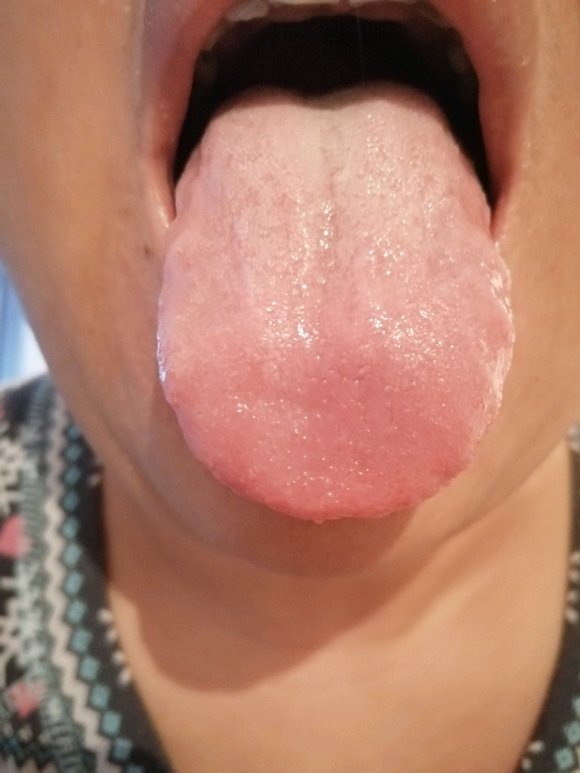baitaishe: (156, 77, 515, 523)
huataishe: (278, 384, 379, 500)
shenquao: (262, 78, 384, 112)
